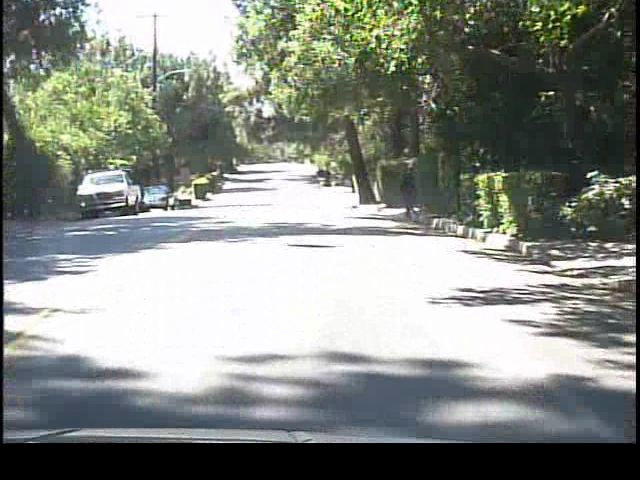person: (398, 162, 420, 221)
